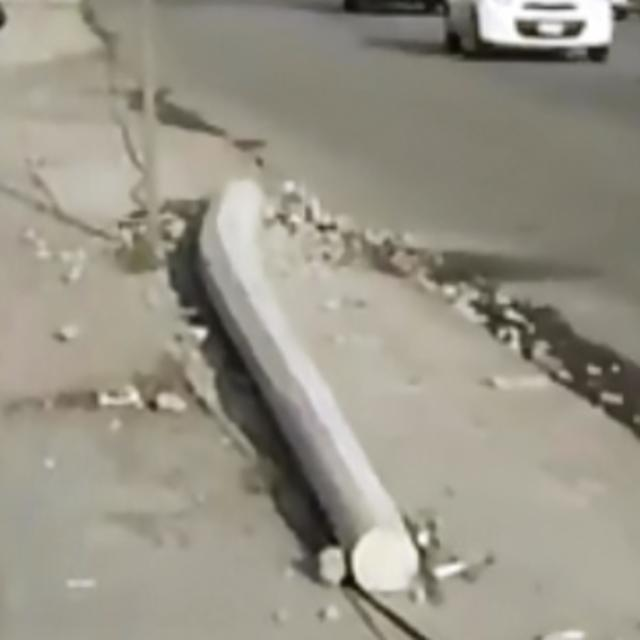Inclined Pole: (196, 177, 426, 597)
